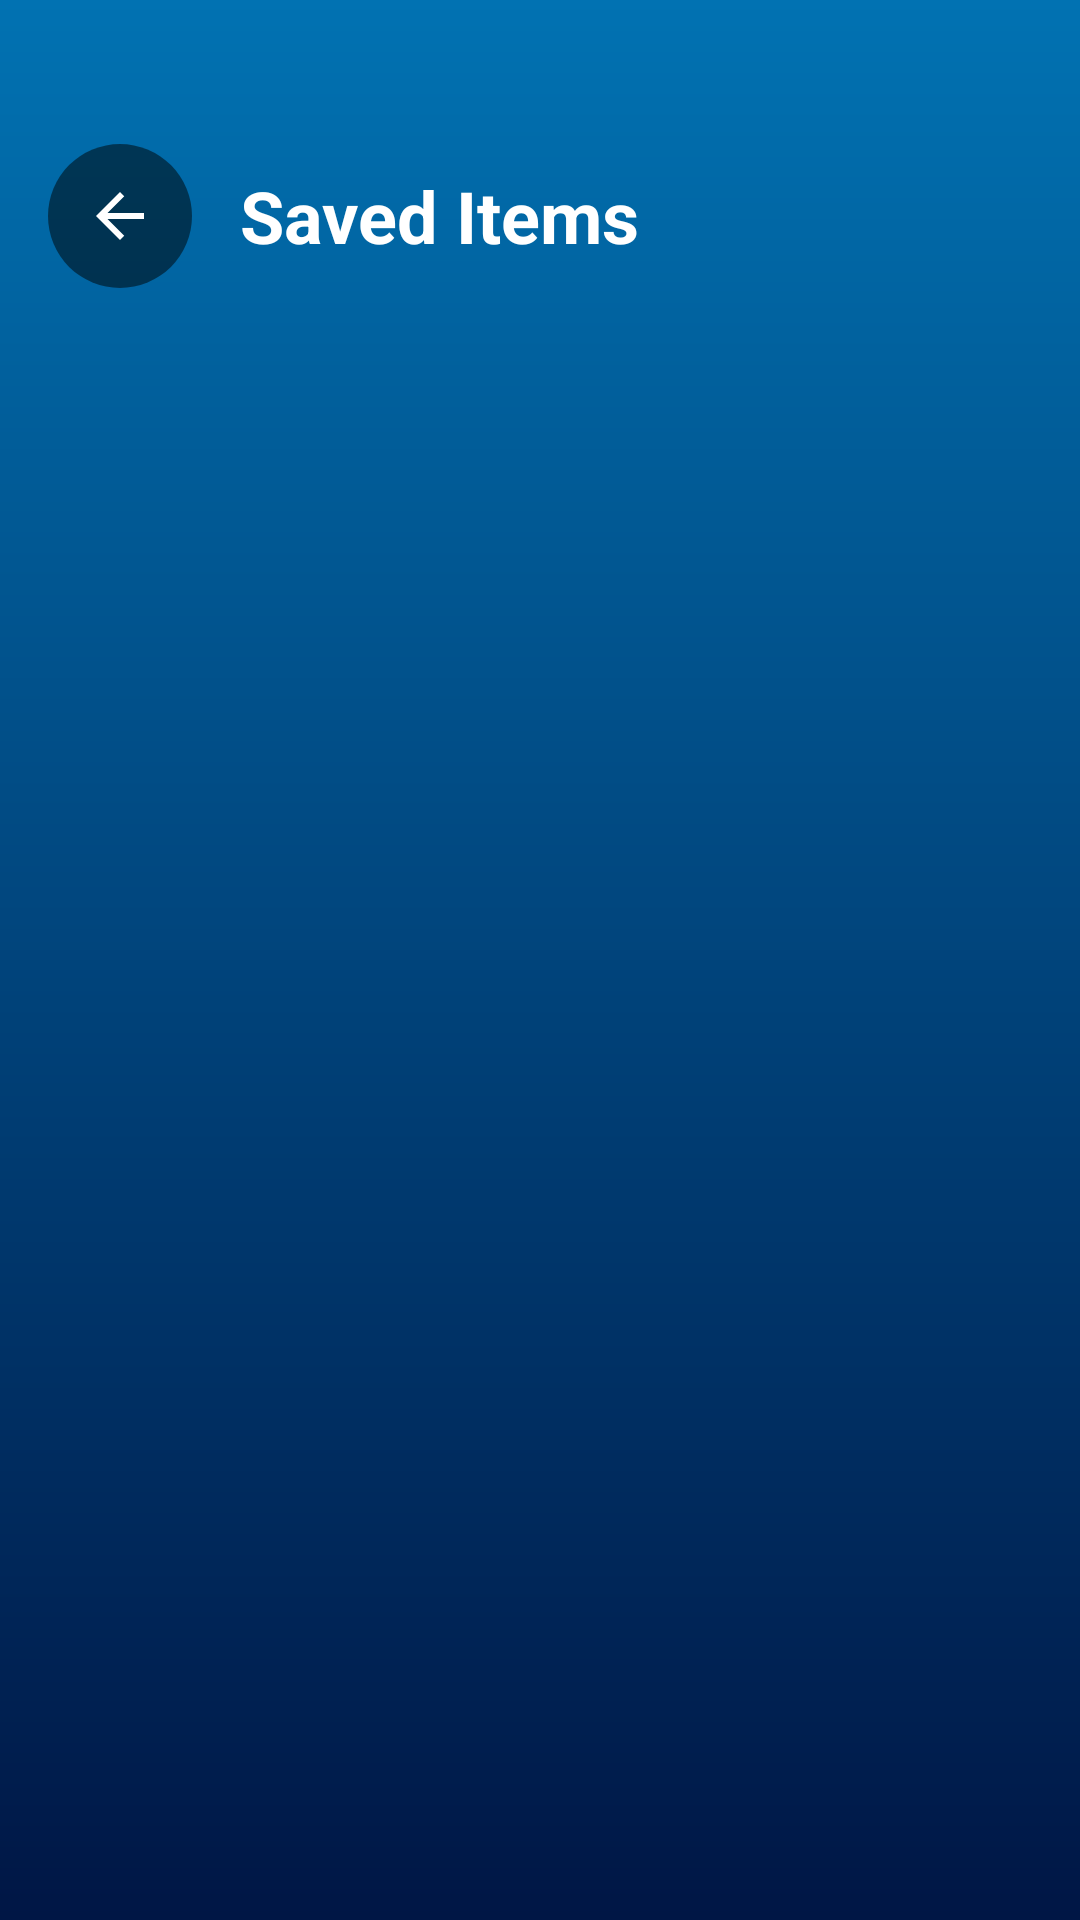

Icons on this 1080 x 1920 Android screen, each with the point to tap as (x=x, y=y):
back: (x=120, y=216)
